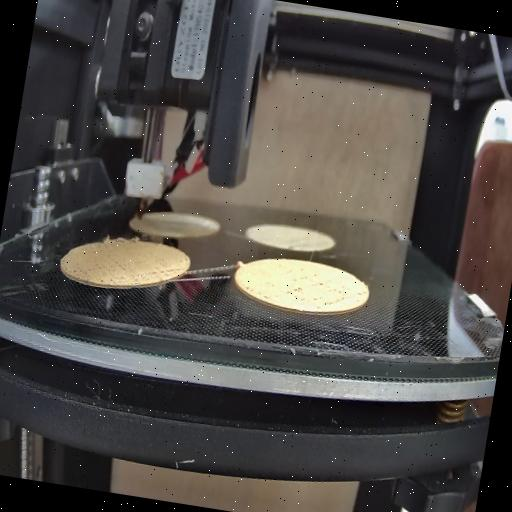under_extrusion: (283, 268, 352, 312), (71, 248, 139, 287), (140, 262, 182, 286), (242, 284, 271, 302)
